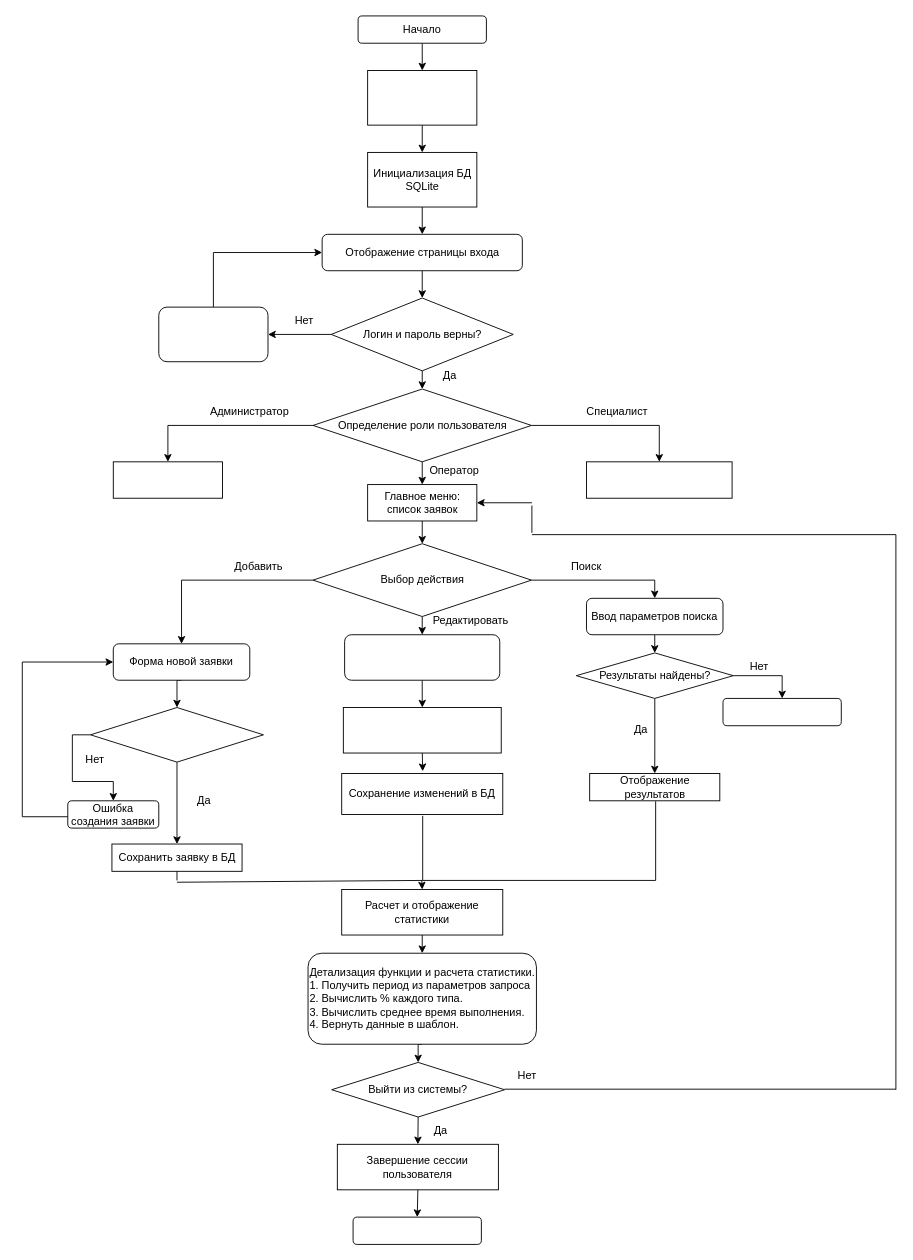
This 913x1260 diagram has some shape labels left out. Each missing label, with the box of its shape:
Данные корректны?: (90, 707, 263, 762)
Запуск приложения: (367, 70, 477, 125)
Изменить статус, специалиста, описание проблемы и т.д.: (342, 707, 501, 753)
Конец: (352, 1216, 481, 1244)
Результаты отсутствуют: (722, 698, 841, 726)
Сообщение об ошибке: (158, 306, 268, 362)
Список назначенных заявок: (586, 461, 732, 498)
Управление пользователями: (112, 461, 222, 498)
Форма редактирования заявки: (344, 634, 500, 680)
